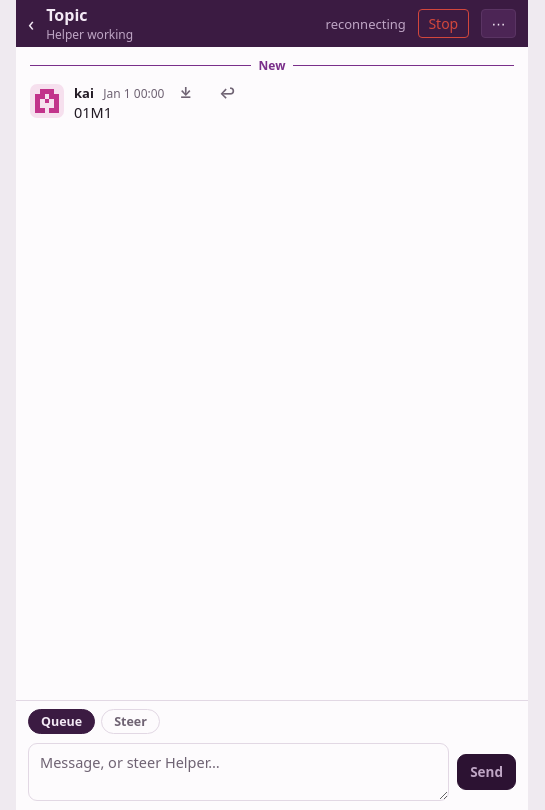
a failed Stop shows in the room, not in the store, and can be dismissed
This screenshot has width=545, height=810.
Click the button "Stop": [443, 24] box [418, 9, 469, 38]
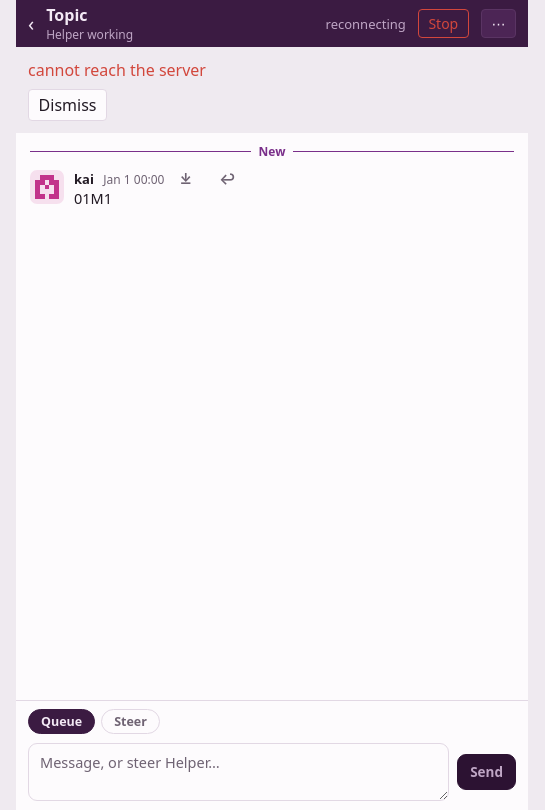
Now the message reads "cannot reach the server", box [28, 59, 206, 81]
Click the button "Dismiss": [68, 105] box [28, 89, 107, 121]
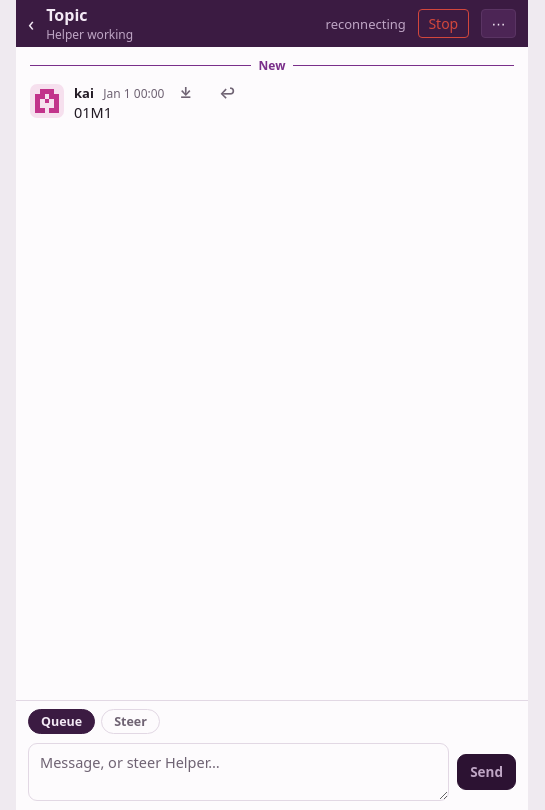
Now the message "cannot reach the server" is gone
